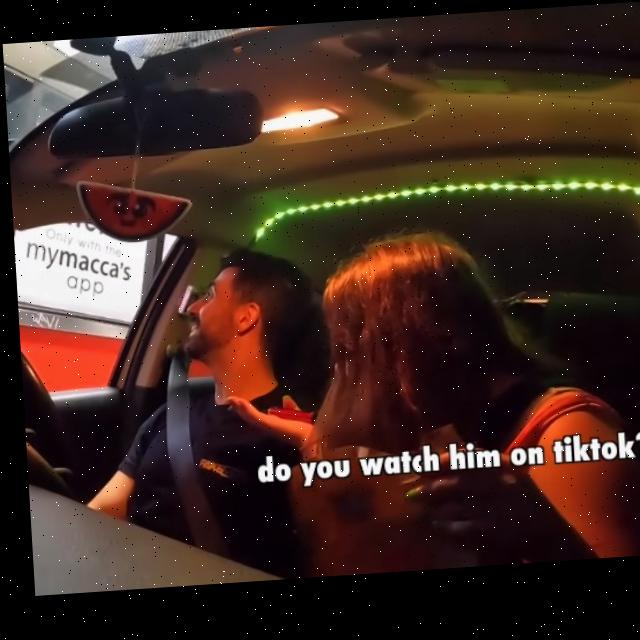vape: (255, 406, 311, 430)
